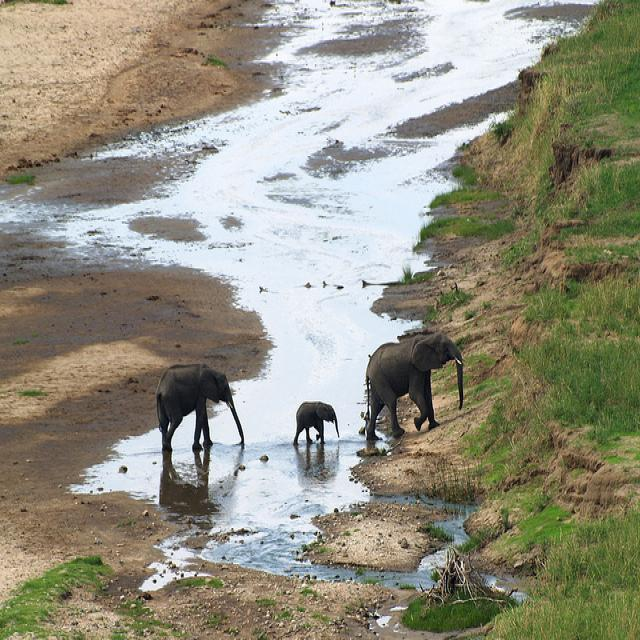Elephant: (364, 331, 464, 440), (155, 361, 244, 452), (293, 400, 339, 445)
